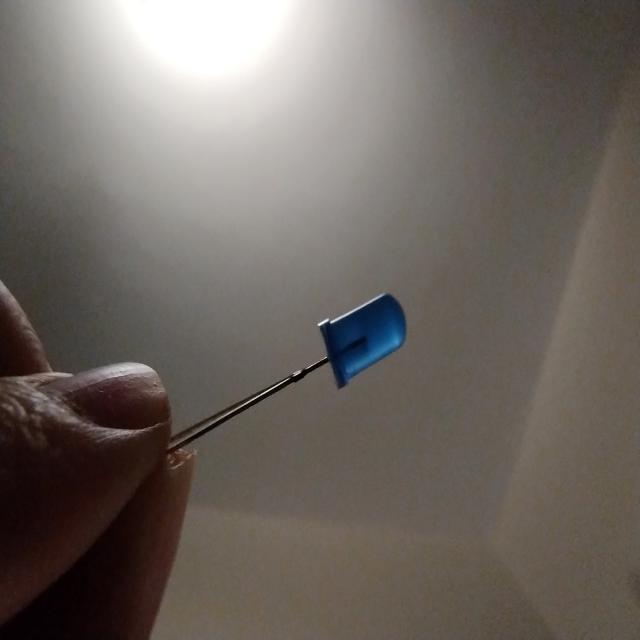blue_led: (316, 290, 408, 390)
